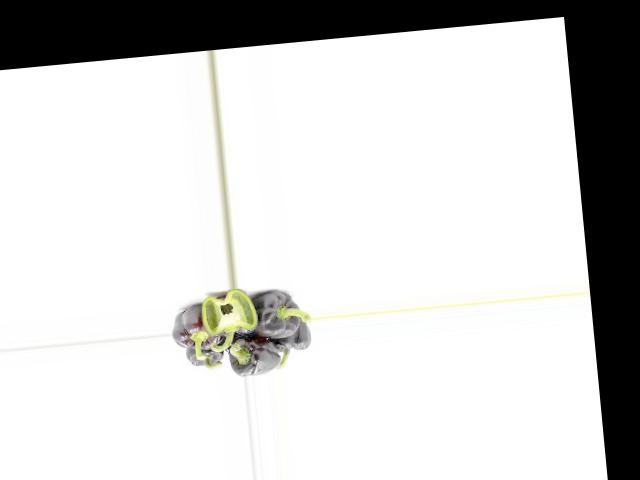bell_pepper: (171, 304, 231, 352)
